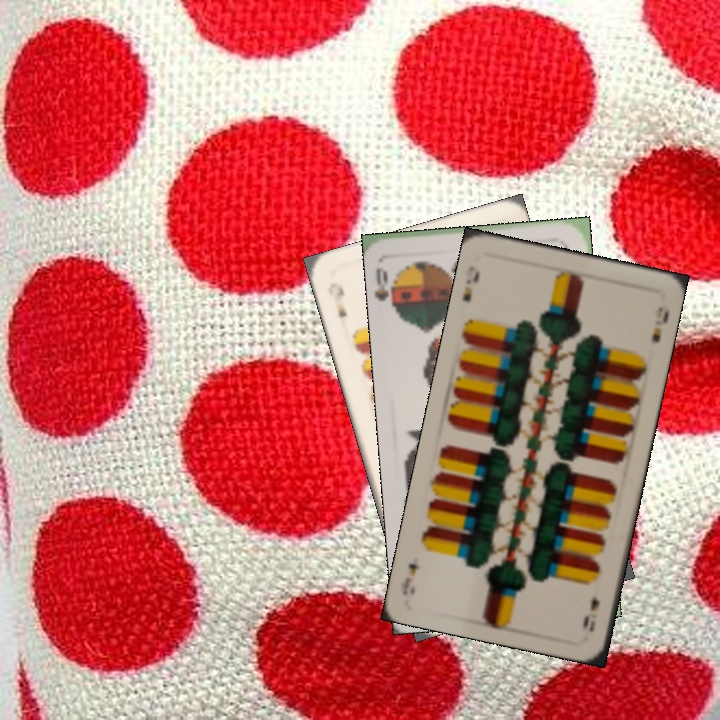E9: (324, 278, 350, 320), (578, 591, 603, 634), (458, 261, 482, 304)
SO: (371, 263, 402, 316)
